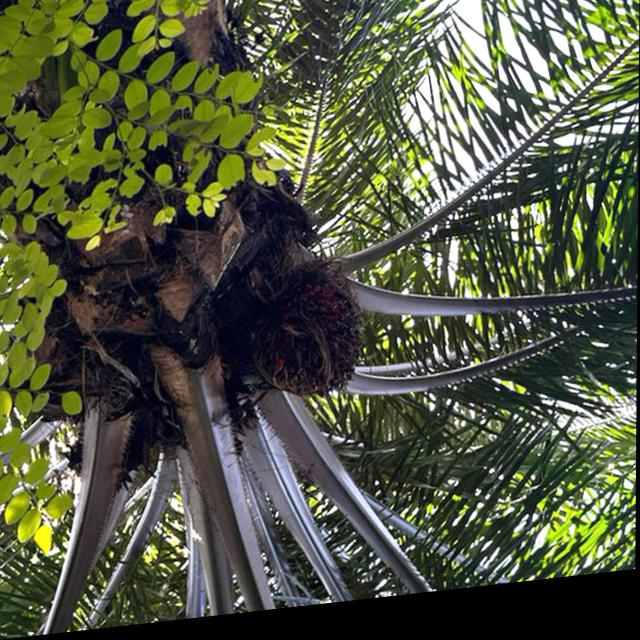ripe: (255, 270, 376, 425)
